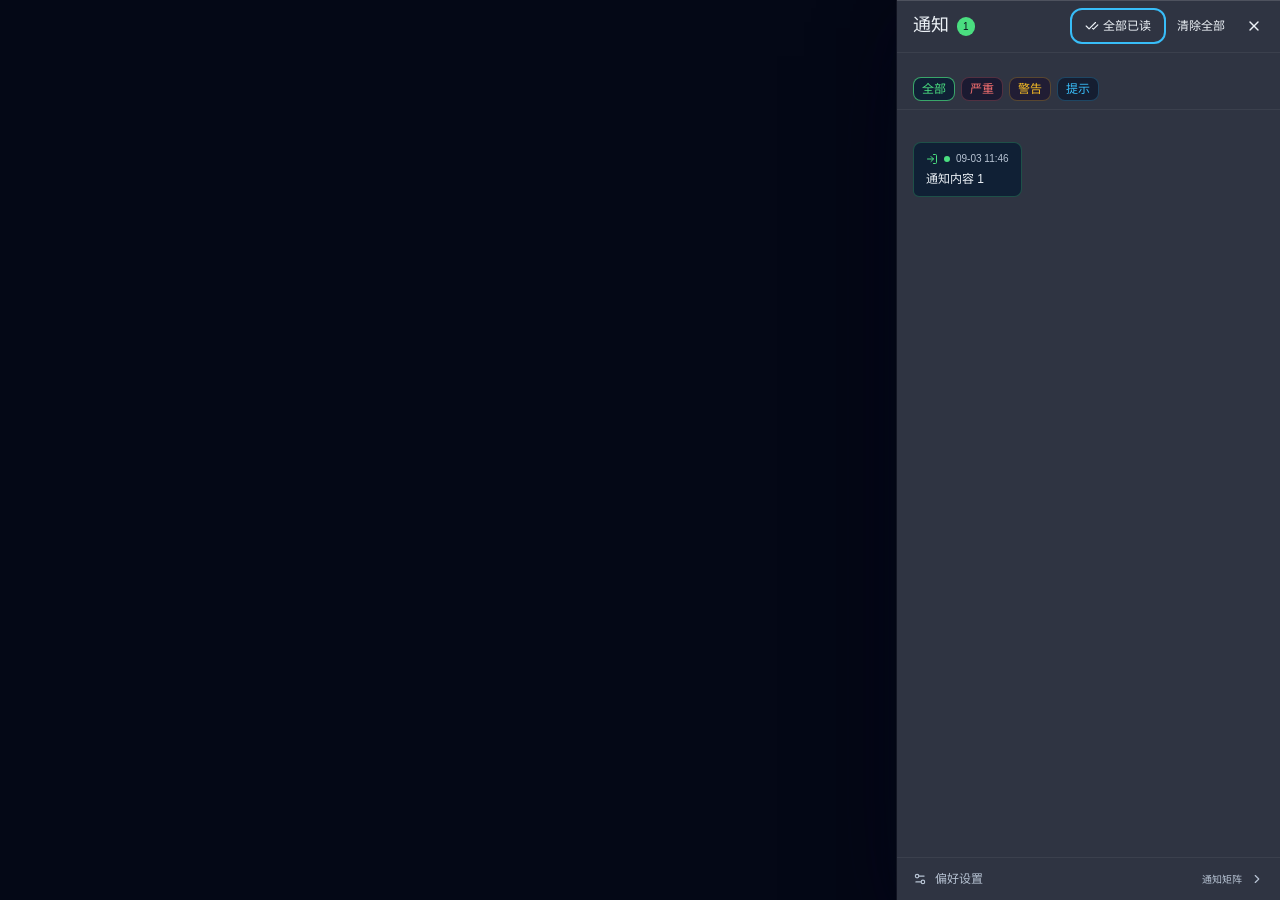
Scenario: NotificationDrawer severity 筛选 › 筛选无结果：显示「该严重度下暂无通知」而非「暂无动态」
Click the radio button with aria-label "严重通知": {"x": 982, "y": 89} top-left (961, 77), bottom-right (1003, 101)
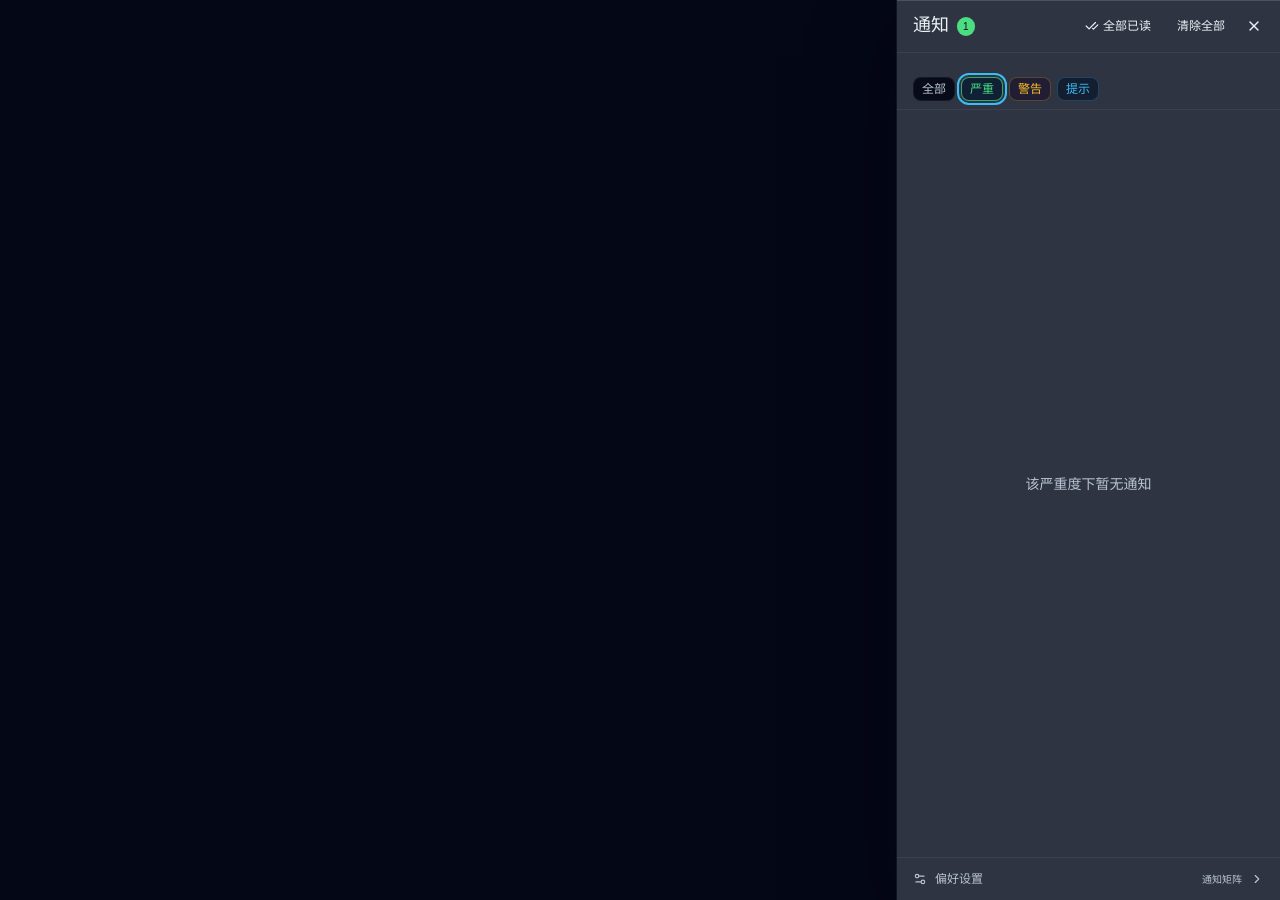
Expected: the text "该严重度下暂无通知" is shown, top-left (1026, 476), bottom-right (1152, 492)
